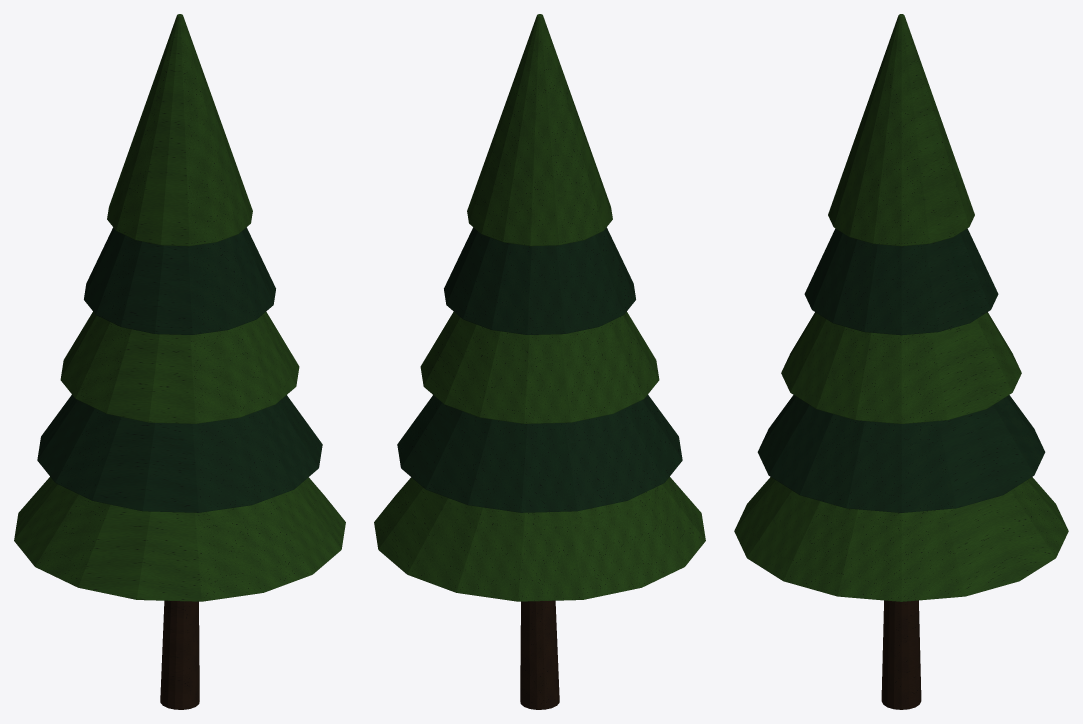
The model's file is PROP-315EB82D7787_lod0.glb.
3 views of the same model, side by side, from view 1: azimuth 30°, elevation 25°; view 2: azimuth 150°, elevation 25°; view 3: azimuth 270°, elevation 25° (orthographic).
Visible parts, largest first — view 1: layered_conifer_crown.032, layered_conifer_crown.033, trunk.054; view 2: layered_conifer_crown.032, layered_conifer_crown.033, trunk.054; view 3: layered_conifer_crown.032, layered_conifer_crown.033, trunk.054.
Part boxes in pixels (left/top/right/bottom): layered_conifer_crown.032: left=14, top=14, right=345, bottom=601; layered_conifer_crown.033: left=37, top=227, right=322, bottom=512; trunk.054: left=160, top=600, right=199, bottom=709; layered_conifer_crown.032: left=374, top=14, right=705, bottom=601; layered_conifer_crown.033: left=397, top=227, right=682, bottom=512; trunk.054: left=520, top=600, right=559, bottom=709; layered_conifer_crown.032: left=734, top=14, right=1068, bottom=601; layered_conifer_crown.033: left=757, top=228, right=1045, bottom=512; trunk.054: left=881, top=600, right=921, bottom=709.
Size of the model in its own units: 4.02 by 9.11 by 4.02.
3 materials, 3 textured.
